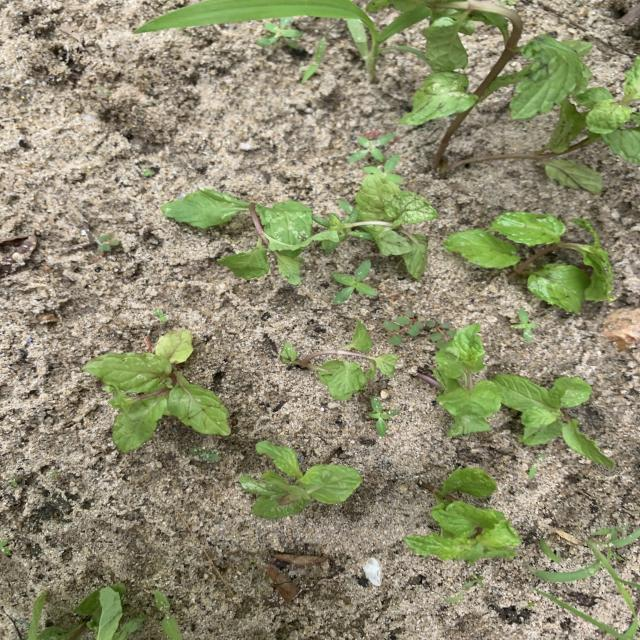crop: (405, 2, 638, 192), (427, 324, 615, 465), (84, 329, 231, 451), (444, 212, 614, 311), (163, 189, 313, 283), (313, 171, 435, 278), (404, 468, 519, 563), (239, 441, 361, 518), (282, 320, 398, 399), (33, 584, 145, 639), (154, 591, 183, 639)
weed: (530, 528, 640, 640), (139, 1, 377, 32), (346, 1, 430, 81), (333, 261, 376, 303), (384, 311, 435, 344), (257, 17, 301, 47), (350, 133, 394, 162), (364, 155, 403, 183), (301, 38, 325, 82), (368, 398, 396, 435), (511, 310, 536, 342), (429, 321, 453, 343), (190, 448, 219, 462), (97, 233, 119, 251), (528, 453, 543, 478), (465, 574, 483, 587), (0, 540, 11, 555), (444, 595, 463, 603), (155, 310, 167, 322)
